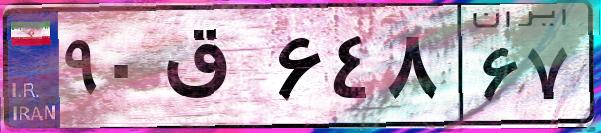0: (110, 28, 158, 98)
4: (330, 28, 385, 110)
6: (270, 28, 330, 110), (475, 38, 525, 113)
7: (525, 38, 570, 115)
8: (385, 28, 445, 110)
9: (57, 26, 110, 100)
ق: (158, 20, 270, 120)
